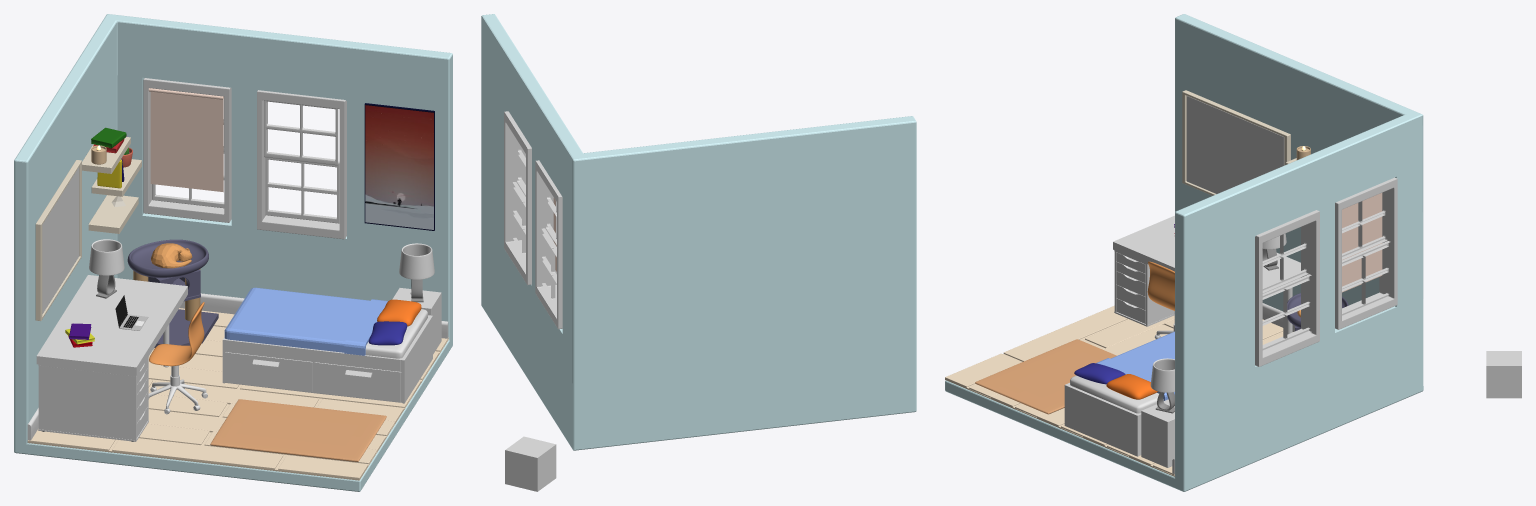
File: room_joined.glb
3 views of the same model, side by side, from view 1: azimuth 30°, elevation 25°; view 2: azimuth 150°, elevation 25°; view 3: azimuth 270°, elevation 25° (orthographic). The views are drawn at different scales.
Parts seen in each view (by area): view 1: walls, Windows, bed frame, Whiteboard, Table, floor stuff, desk stuff, shelf items, Pillows; view 2: walls, Windows, Cube; view 3: walls, Windows, floor stuff, Whiteboard, bed frame, Table, Cube, desk stuff, Pillows.
Boxes of the visible parts, box(x1,y1,x2,y2) form: walls: box(14, 14, 452, 491); Windows: box(143, 78, 346, 239); bed frame: box(222, 287, 432, 403); Whiteboard: box(35, 103, 434, 320); Table: box(36, 275, 187, 441); floor stuff: box(127, 239, 441, 461); desk stuff: box(65, 239, 434, 347); shelf items: box(91, 127, 132, 206); Pillows: box(368, 299, 421, 345); walls: box(481, 14, 916, 450); Windows: box(504, 111, 562, 329); Cube: box(505, 436, 556, 491); walls: box(945, 14, 1423, 491); Windows: box(1255, 177, 1397, 366); floor stuff: box(975, 261, 1348, 467); Whiteboard: box(1182, 90, 1296, 195); bed frame: box(1064, 331, 1174, 456); Table: box(1113, 215, 1300, 334); Cube: box(1486, 351, 1521, 398); desk stuff: box(1150, 224, 1286, 413); Pillows: box(1074, 363, 1157, 399).
Size of the model in its own units: 5.67 by 3.63 by 6.84.
37 materials, 1 textured.
